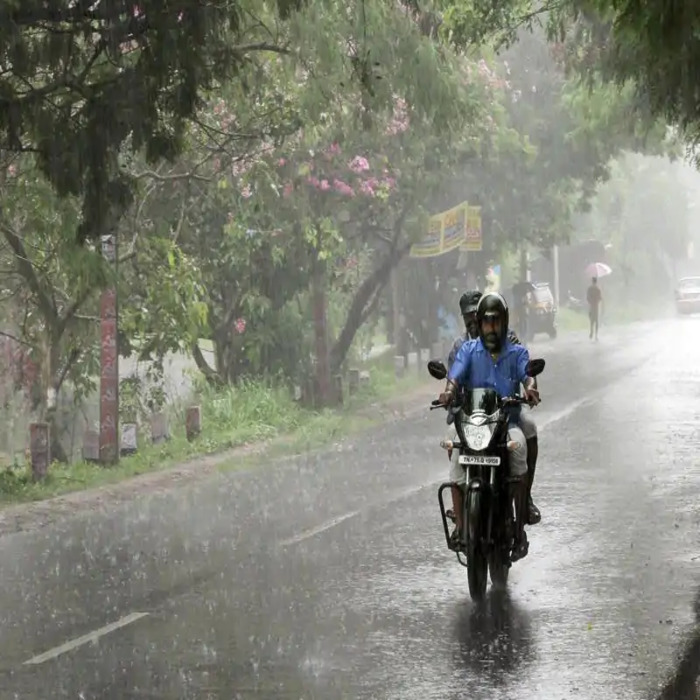h: (476, 293, 509, 351), (460, 288, 481, 321)
n: (456, 450, 502, 468)
